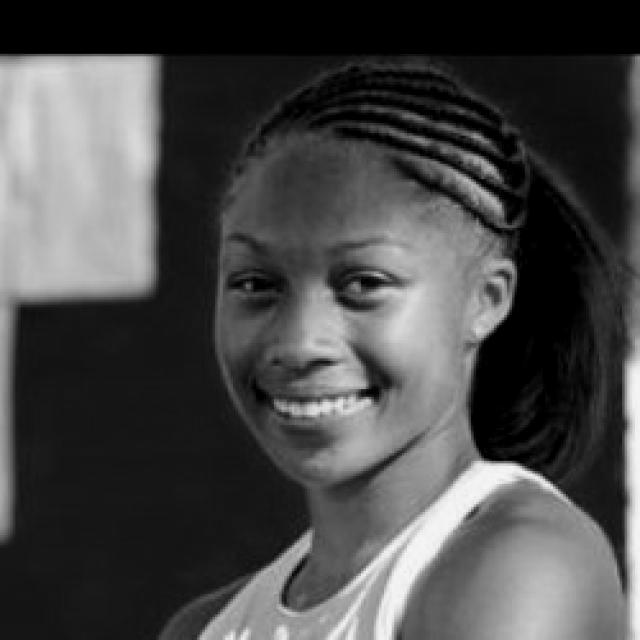real: (216, 135, 461, 486), (220, 239, 418, 322)
